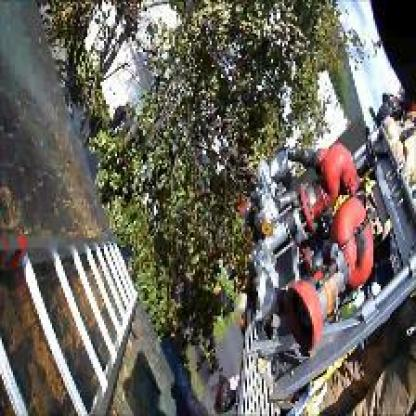other: (292, 135, 374, 350)
